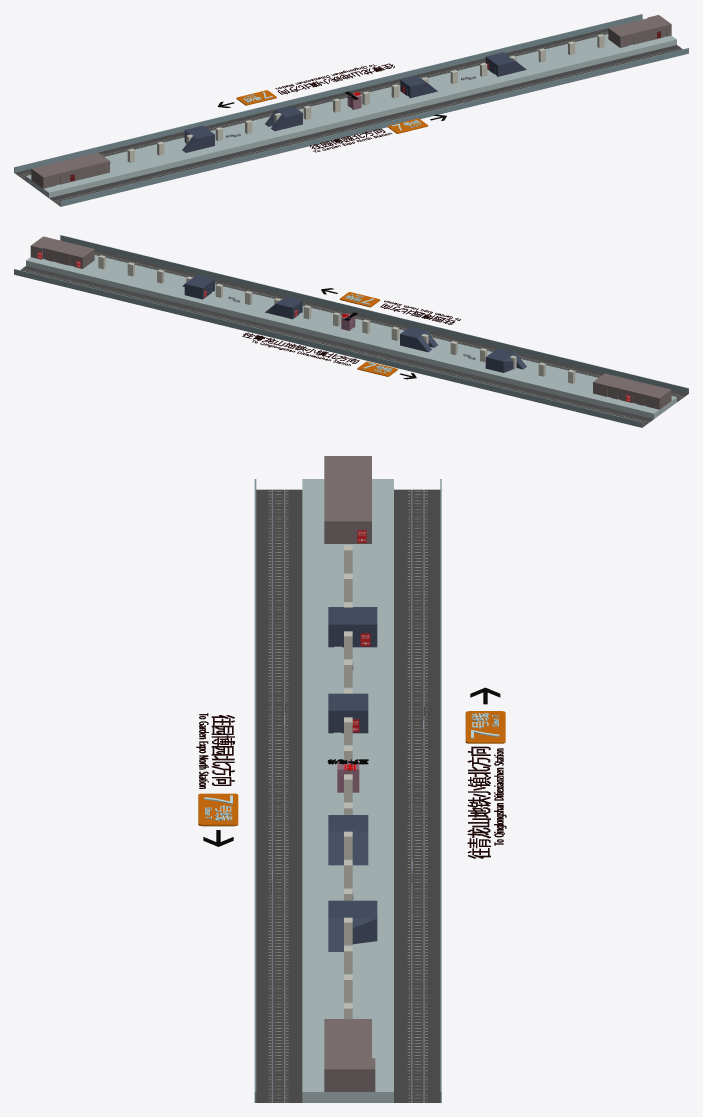
Rendered from psop-whgj-yby-b2.b793f4d.glb.
The picture shows the model from 3 angles, top to bottom: view 1: azimuth 30°, elevation 25°; view 2: azimuth 150°, elevation 25°; view 3: azimuth 270°, elevation 25°; orthographic projection. The views are drawn at different scales.
Visible parts, largest first — view 1: road-b2-2, 青龙山方向, 轨道, Object002, b2-房间, 墩柱025, Text002, Text006, Plane073, Plane071; view 2: road-b2-2, 青龙山方向, 轨道, Object002, b2-房间, 墩柱025, Text002, Text006, Plane071, Plane073; view 3: 轨道, road-b2-2, Object002, b2-房间, 墩柱025, 青龙山方向, Text002, Text006, Plane073, Plane071.
Boxes of the visible parts, x1=… form: road-b2-2: x1=26, y1=34, x2=676, y2=197; 青龙山方向: x1=14, y1=14, x2=688, y2=206; 轨道: x1=15, y1=28, x2=682, y2=206; Object002: x1=31, y1=15, x2=671, y2=188; b2-房间: x1=182, y1=52, x2=526, y2=152; 墩柱025: x1=127, y1=34, x2=604, y2=162; Text002: x1=275, y1=63, x2=394, y2=94; Text006: x1=310, y1=128, x2=391, y2=152; Plane073: x1=387, y1=118, x2=428, y2=133; Plane071: x1=236, y1=90, x2=276, y2=105; road-b2-2: x1=26, y1=255, x2=676, y2=418; 青龙山方向: x1=14, y1=235, x2=688, y2=427; 轨道: x1=20, y1=249, x2=687, y2=427; Object002: x1=30, y1=236, x2=671, y2=409; b2-房间: x1=182, y1=275, x2=526, y2=372; 墩柱025: x1=98, y1=255, x2=575, y2=383; Text002: x1=242, y1=332, x2=359, y2=366; Text006: x1=380, y1=300, x2=460, y2=324; Plane071: x1=357, y1=361, x2=397, y2=376; Plane073: x1=339, y1=292, x2=380, y2=307; 轨道: x1=256, y1=489, x2=440, y2=1102; road-b2-2: x1=302, y1=479, x2=393, y2=1102; Object002: x1=324, y1=456, x2=375, y2=1091; b2-房间: x1=328, y1=607, x2=377, y2=951; 墩柱025: x1=344, y1=545, x2=352, y2=1018; 青龙山方向: x1=254, y1=479, x2=441, y2=1102; Text002: x1=467, y1=746, x2=506, y2=858; Text006: x1=196, y1=713, x2=234, y2=788; Plane073: x1=198, y1=793, x2=238, y2=826; Plane071: x1=465, y1=711, x2=505, y2=743.
Size of the model in its own units: 182 by 4.91 by 38.94.
15 materials, 2 textured.
